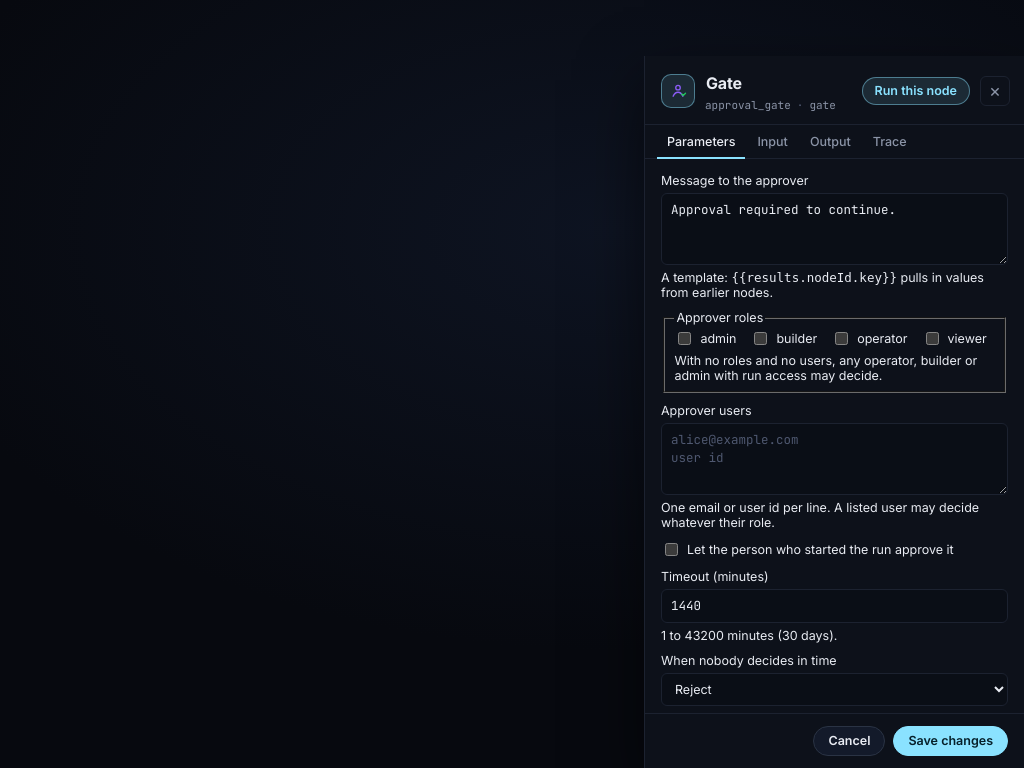
Test: NodeInspector › offers no pin for an Approval Gate, whose output only comes from a decision
Step 1. Click the tab "Output" → (830,142), box [800,125,861,159]
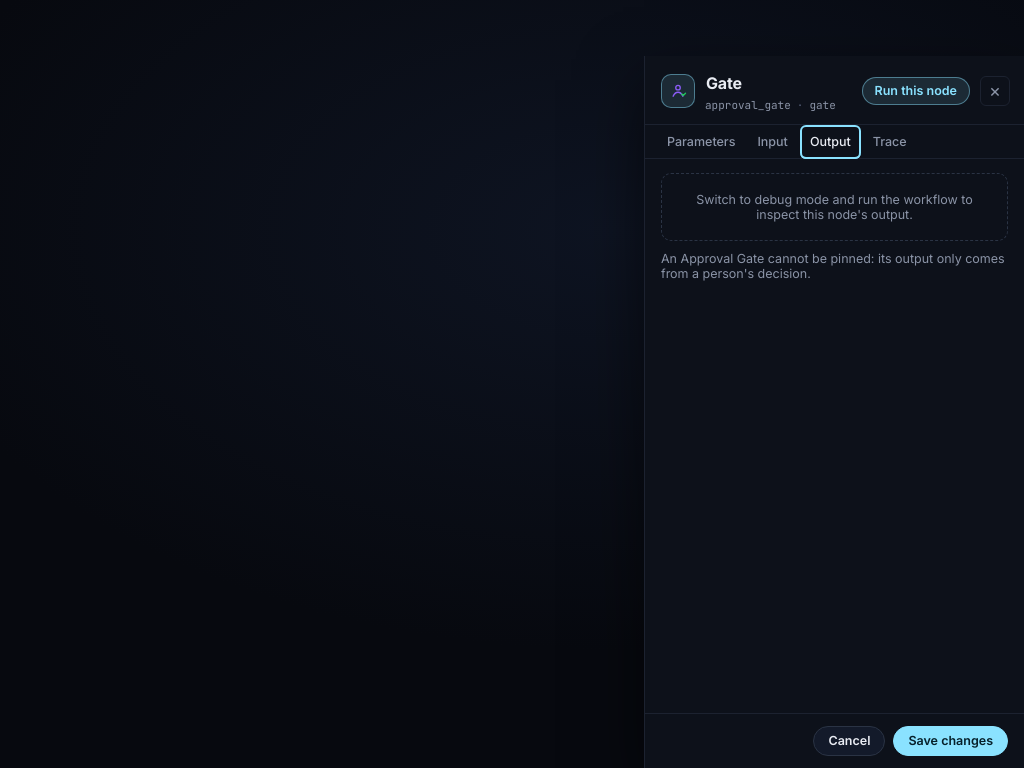
Expected: the text "An Approval Gate cannot be pinned" is shown, [661,251,1005,281]
